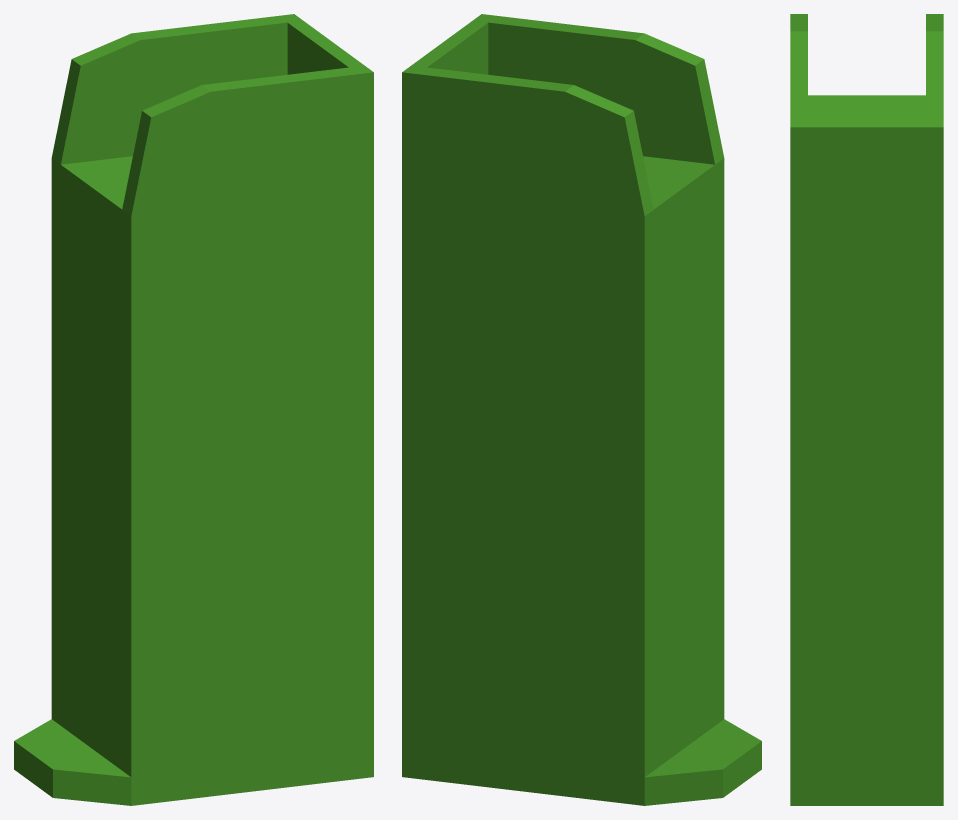
The model's file is SM_PRP_Pistols_Colt_Mag_01_A.obj.
The picture shows the model from 3 angles, left to right: view 1: azimuth 30°, elevation 25°; view 2: azimuth 150°, elevation 25°; view 3: azimuth 270°, elevation 25°; orthographic projection. The views are drawn at different scales.
Visible parts, largest first — view 1: SM_PRP_Pistols_Colt_Mag_01_A; view 2: SM_PRP_Pistols_Colt_Mag_01_A; view 3: SM_PRP_Pistols_Colt_Mag_01_A.
Part boxes in pixels (x1,y1,x2,y2): SM_PRP_Pistols_Colt_Mag_01_A: [14, 14, 373, 805]; SM_PRP_Pistols_Colt_Mag_01_A: [402, 14, 761, 805]; SM_PRP_Pistols_Colt_Mag_01_A: [790, 14, 943, 805].
Size of the model in its own units: 4.57 by 10.52 by 2.1.
